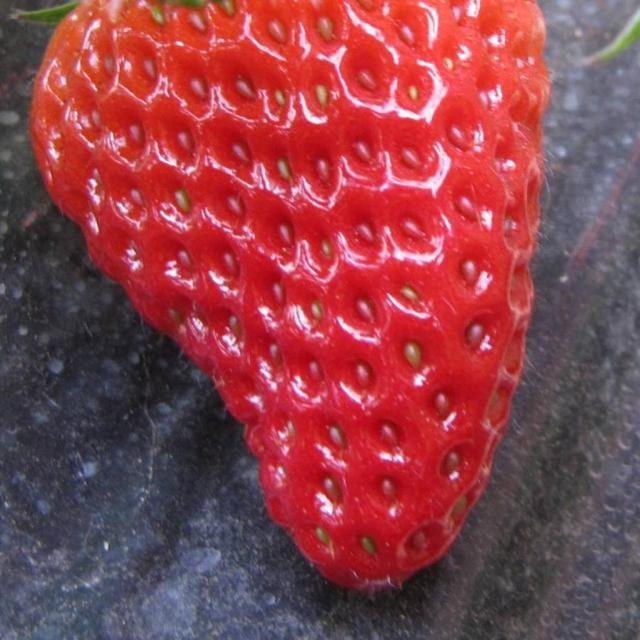Strawberry: (14, 0, 530, 591)
